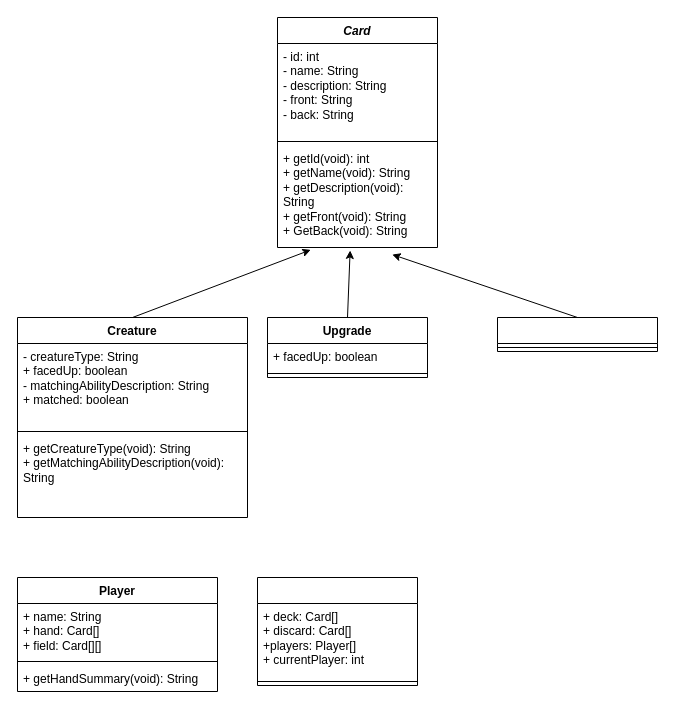
The diagram is 675 pixels wide and 712 high, and some of its shapes have lost their labels. The shapes that lost their labels are listed below. From the top down, each one's box as (x1, y1, x2, y2) in pixels, then its label:
(496, 316, 658, 352): Action
(256, 576, 418, 686): GameBoard
